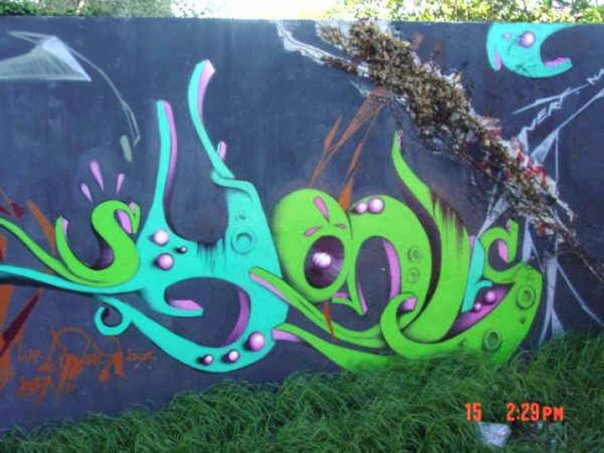graffity: (1, 13, 604, 380), (1, 188, 157, 410)
